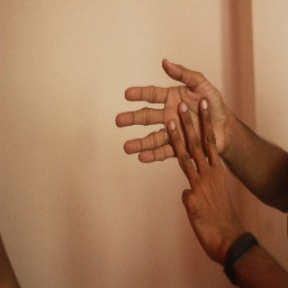M: (113, 57, 236, 196)
